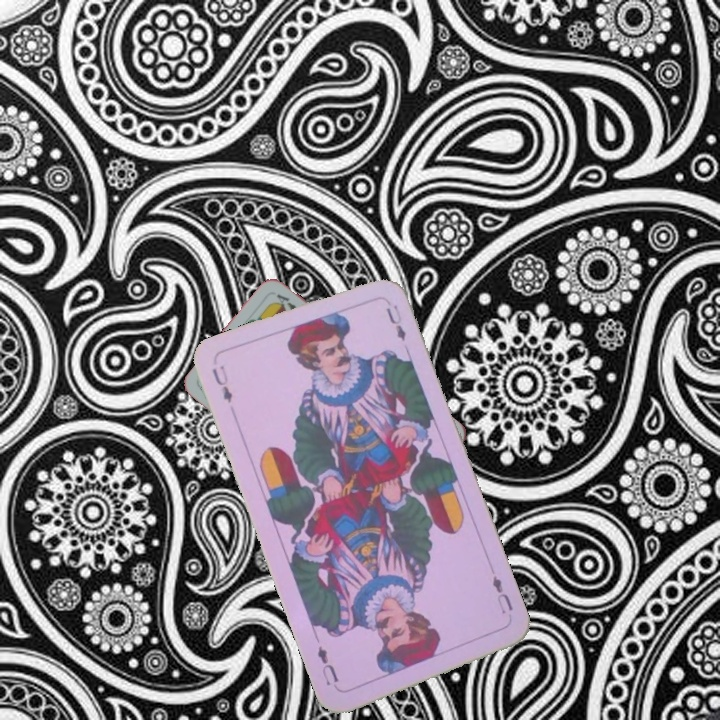EU: (488, 571, 516, 617), (208, 361, 235, 406)
